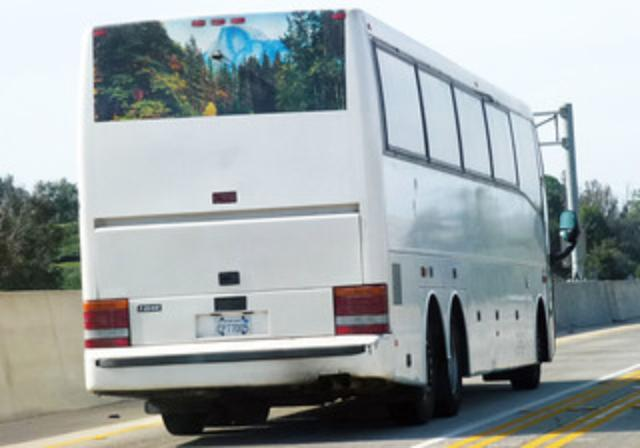bus: (82, 6, 556, 436)
